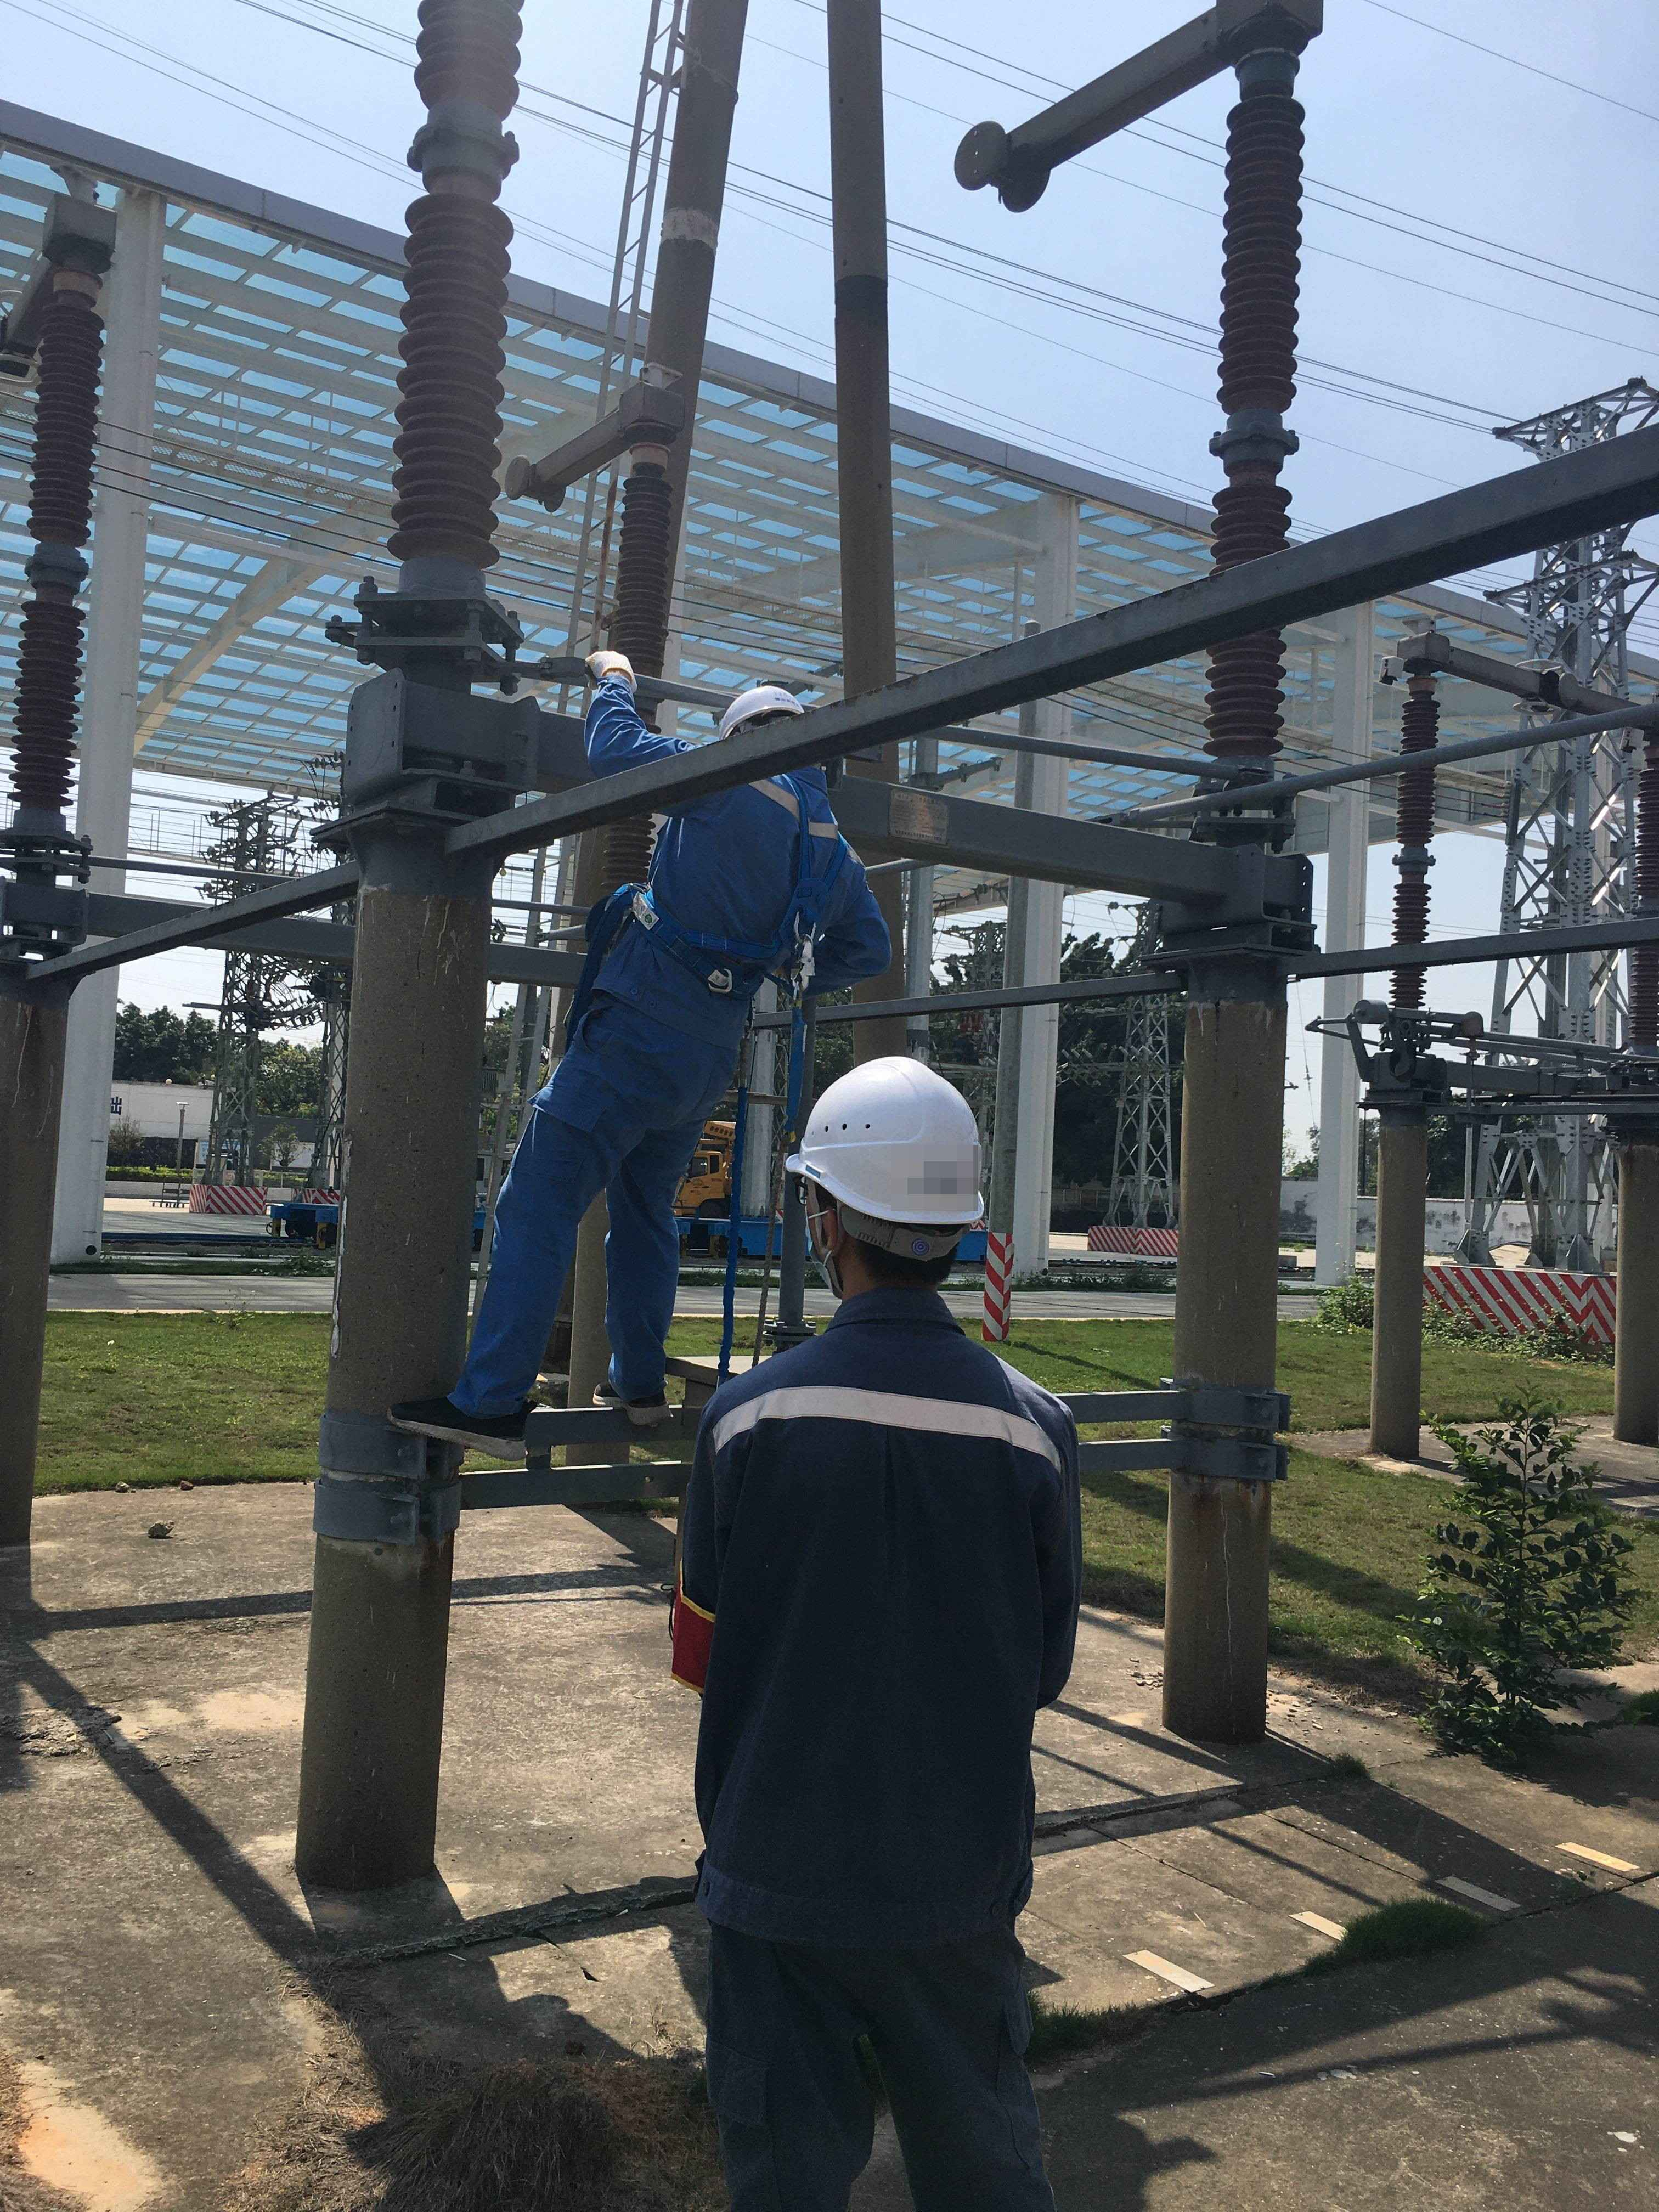downsuit: (453, 1029, 741, 1413), (692, 1947, 1080, 2212)
upsuit: (674, 1298, 1082, 1919), (577, 683, 899, 1008)
